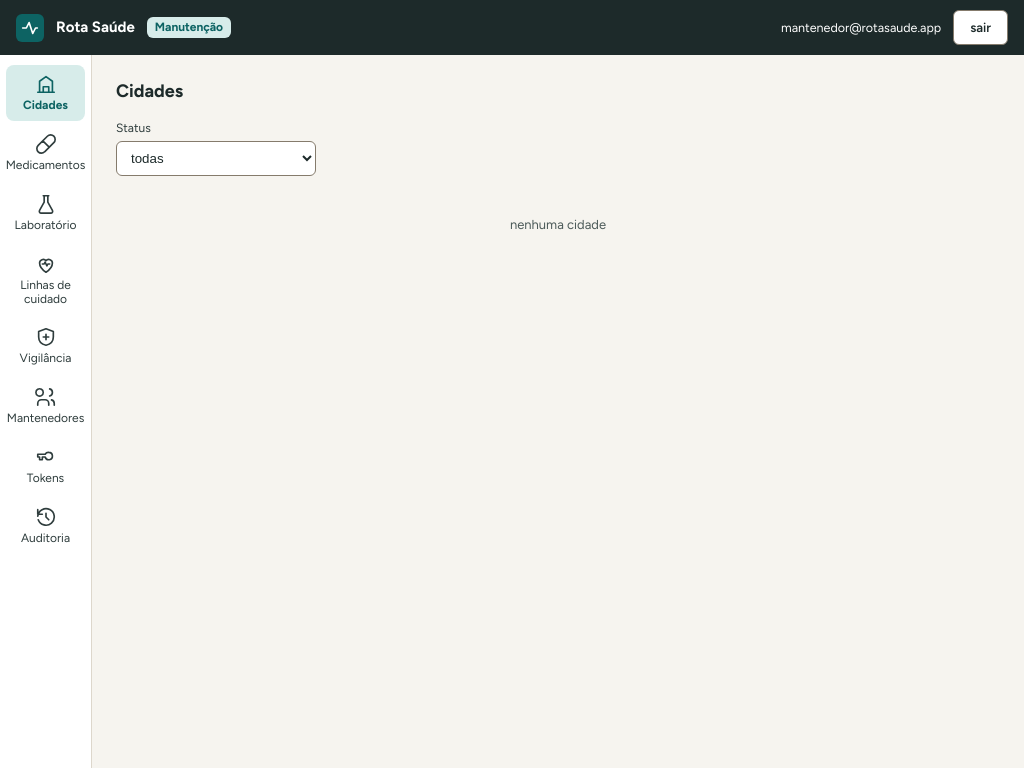
Scenario: Shell › Laboratório abre o catálogo-base de exames
This screenshot has width=1024, height=768.
Click the button "Laboratório": (46, 213) x1=6 y1=185 x2=85 y2=241
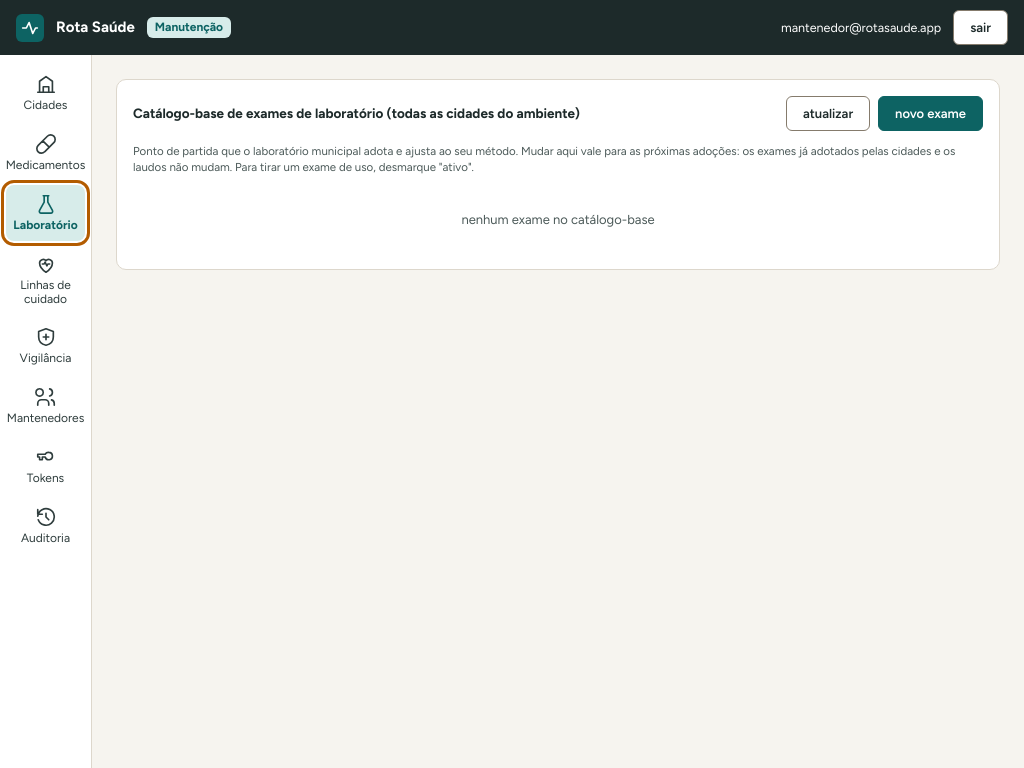
Expected: the text "nenhum exame no catálogo-base" is shown, x1=462 y1=212 x2=655 y2=227
